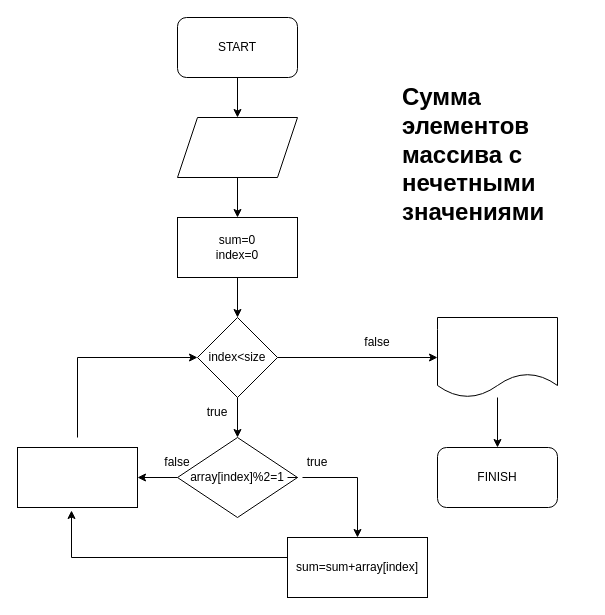
Some shapes in this 605 by 615 pixel diagram are drawn without their labels. Each missing label, with the box of its shape:
array[size]: (176, 116, 298, 178)
index=index+1: (16, 446, 138, 508)
print sum: (436, 316, 558, 398)
